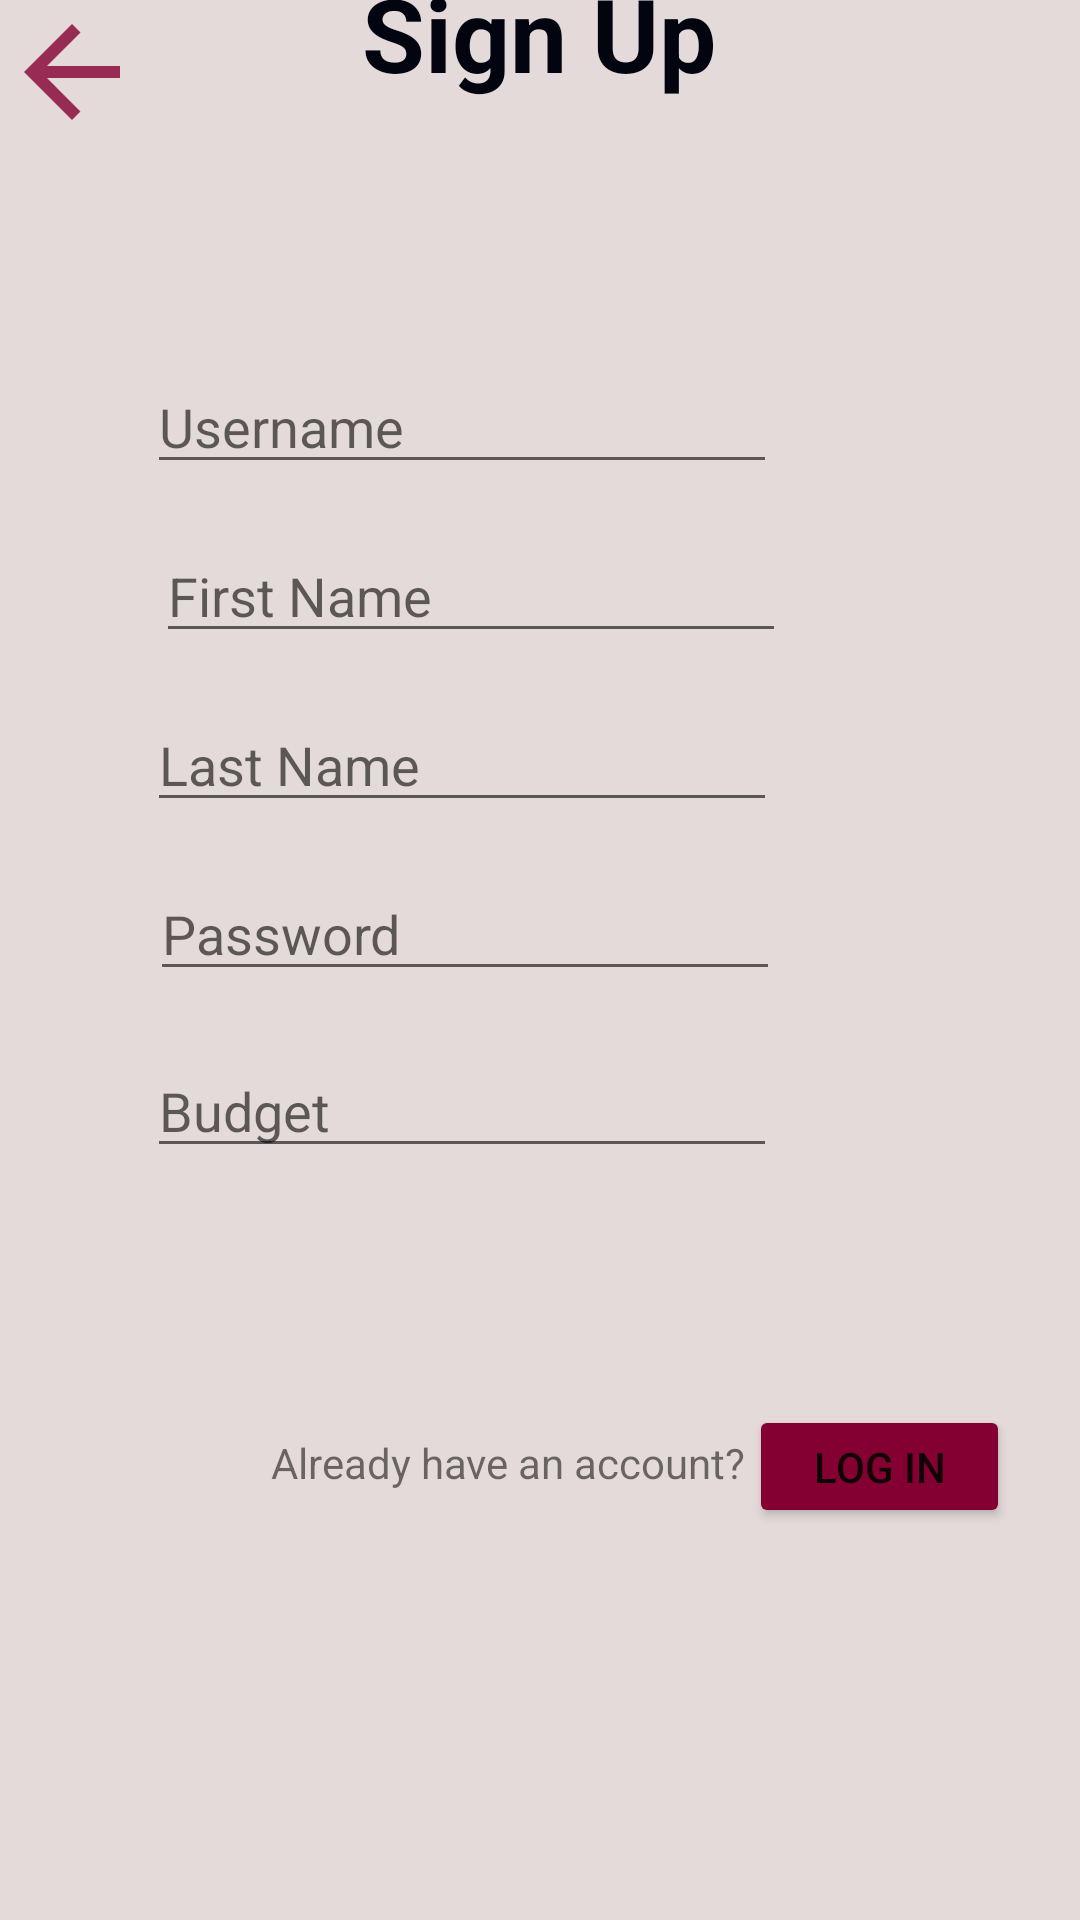

Where icons sit on this 1080*1920 app screen, as (x1, y1, x2, y2):
back arrow: (24, 24, 120, 120)
